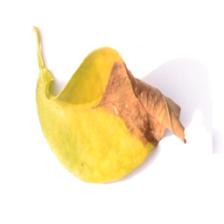black spot: (100, 57, 188, 149)
